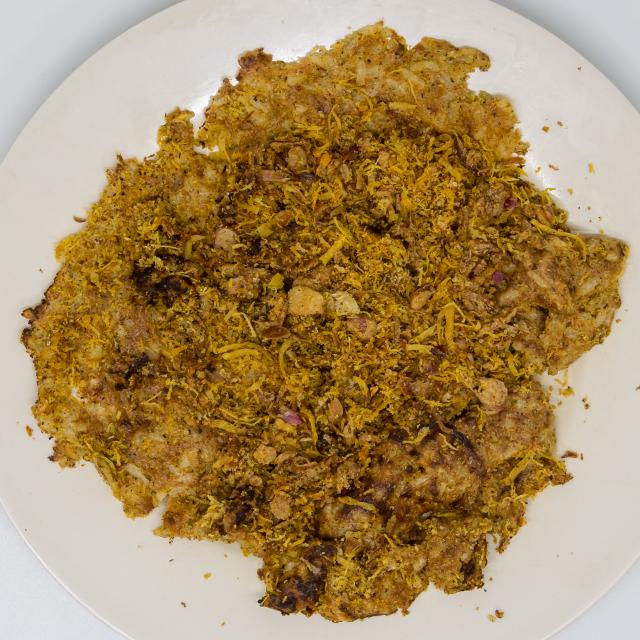Kerak-Telor: (18, 11, 631, 622)
